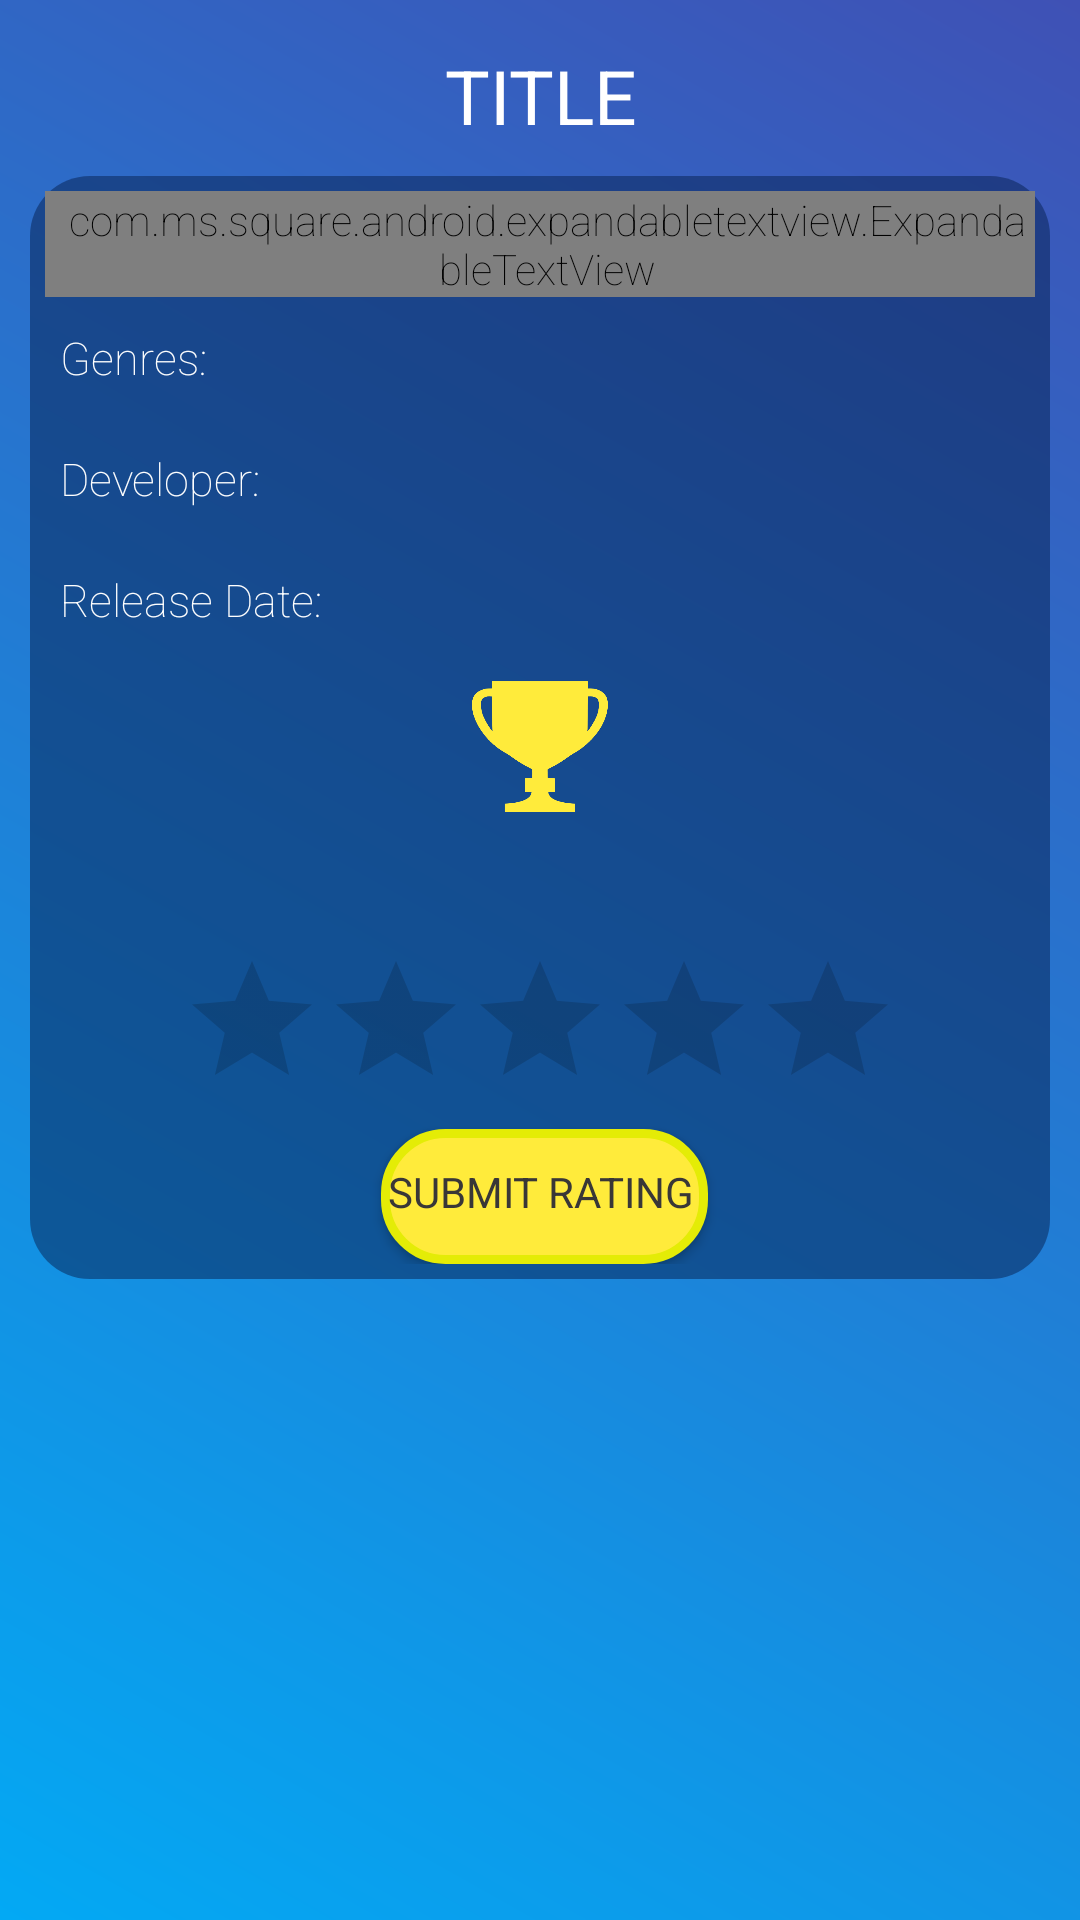

Screen size 1080px×1920px. Icon name, then its box in pixels as rect(x1, y1, x2, y2):
trophy: rect(472, 681, 608, 812)
